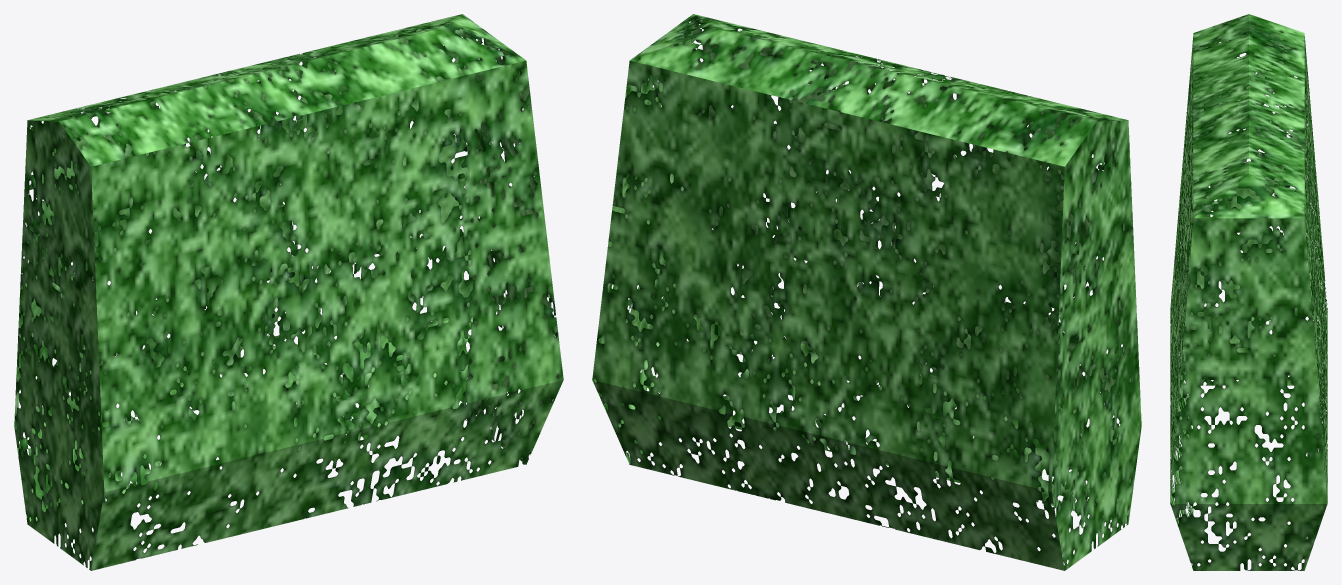
File: bush_tall_open_right_spring.fbx
3 views of the same model, side by side, from view 1: azimuth 30°, elevation 25°; view 2: azimuth 150°, elevation 25°; view 3: azimuth 270°, elevation 25° (orthographic). The views are drawn at different scales.
Parts seen in each view (by area): view 1: bush_tall_open_right_spring; view 2: bush_tall_open_right_spring; view 3: bush_tall_open_right_spring.
Part boxes in pixels (x1,y1,x2,y2): bush_tall_open_right_spring: (14,14,563,570); bush_tall_open_right_spring: (592,14,1141,570); bush_tall_open_right_spring: (1170,14,1327,570).
Size of the model in its own units: 212 by 188 by 71.91.
1 material, 1 textured.
